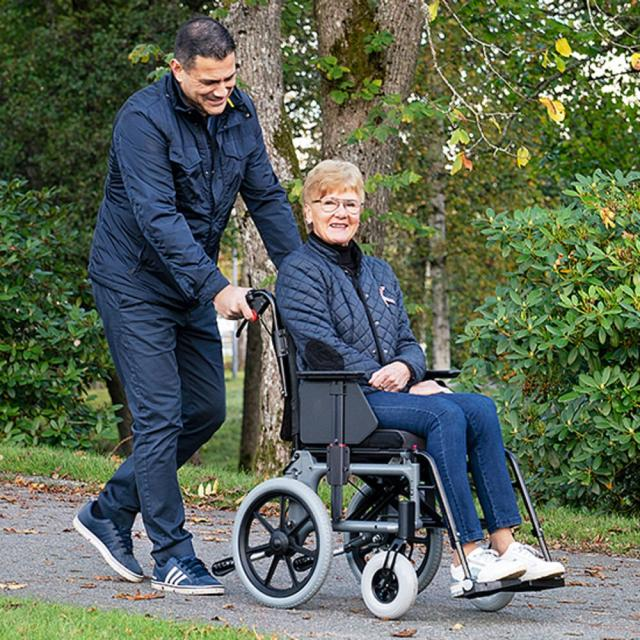wheelchairs: (245, 363, 475, 630)
